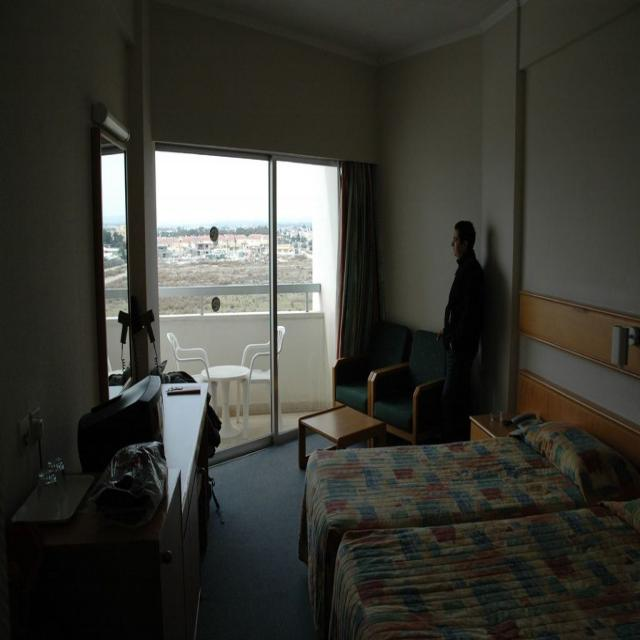chair: (369, 330, 447, 445), (166, 332, 248, 438), (333, 320, 413, 418), (240, 324, 286, 441)
desk: (301, 406, 384, 470)
person: (437, 220, 485, 443)
